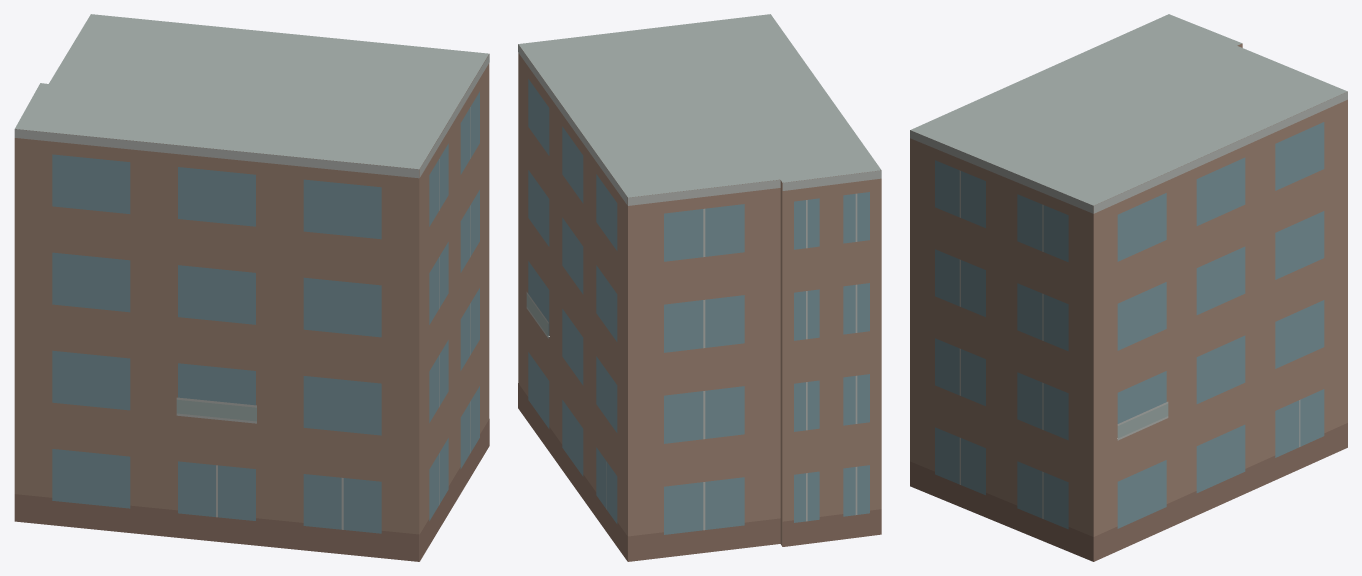
Rendered from survey-upis-32710878.glb.
3 views of the same model, side by side, from view 1: azimuth 30°, elevation 25°; view 2: azimuth 150°, elevation 25°; view 3: azimuth 270°, elevation 25° (orthographic). The views are drawn at different scales.
Parts seen in each view (by area): view 1: survey-upis-32710878.tmp; view 2: survey-upis-32710878.tmp; view 3: survey-upis-32710878.tmp.
Boxes of the visible parts, box(x1,y1,x2,y2) form: survey-upis-32710878.tmp: box(14, 14, 489, 561); survey-upis-32710878.tmp: box(518, 14, 881, 561); survey-upis-32710878.tmp: box(910, 14, 1347, 561).
Bounding box in the file's own units: 12.32 × 10.66 × 11.88.
